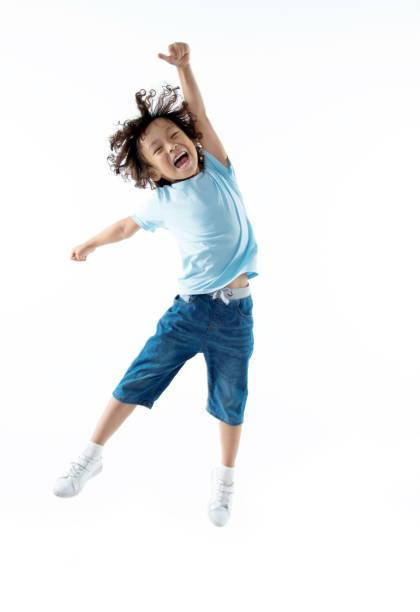Human: (46, 29, 269, 552)
